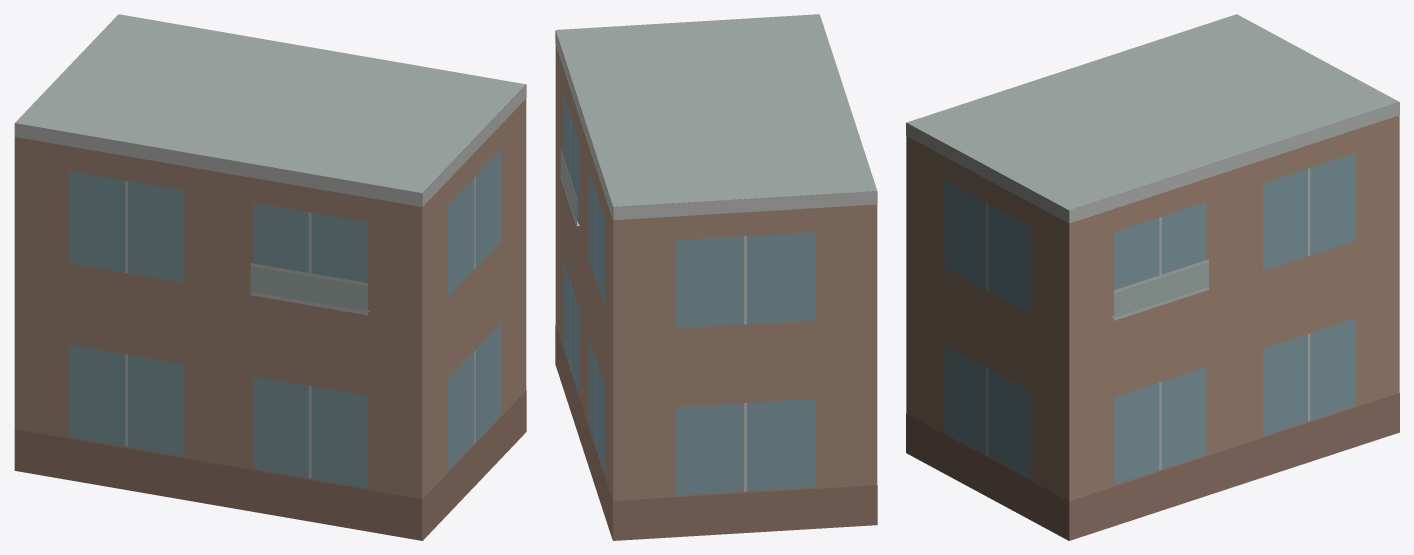
Rendered from survey-upis-32689445.glb.
3 renders of one model, left to right at view 1: azimuth 30°, elevation 25°; view 2: azimuth 150°, elevation 25°; view 3: azimuth 270°, elevation 25°, orthographic. The views are drawn at different scales.
Visible parts, largest first — view 1: survey-upis-32689445.tmp; view 2: survey-upis-32689445.tmp; view 3: survey-upis-32689445.tmp.
Boxes of the visible parts, box(x1,y1,x2,y2) form: survey-upis-32689445.tmp: box(14, 14, 526, 540); survey-upis-32689445.tmp: box(555, 14, 877, 540); survey-upis-32689445.tmp: box(906, 14, 1399, 540).
Size of the model in its own units: 7.78 by 6.1 by 8.27.
